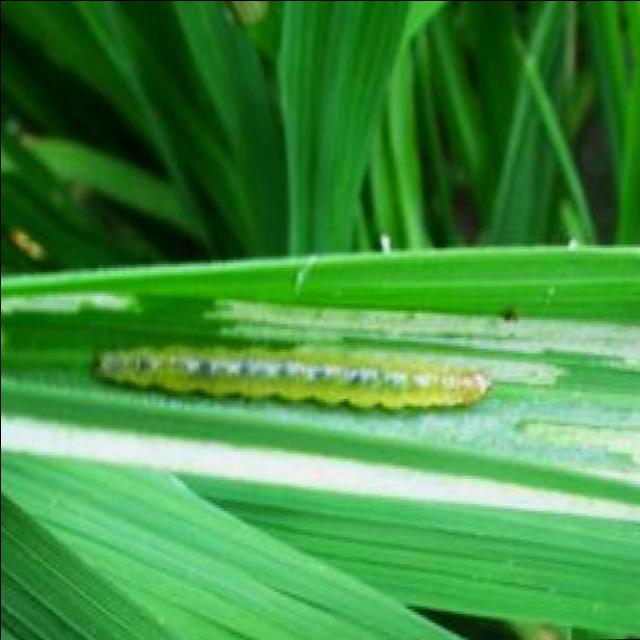leaf folder: (94, 346, 490, 408)
